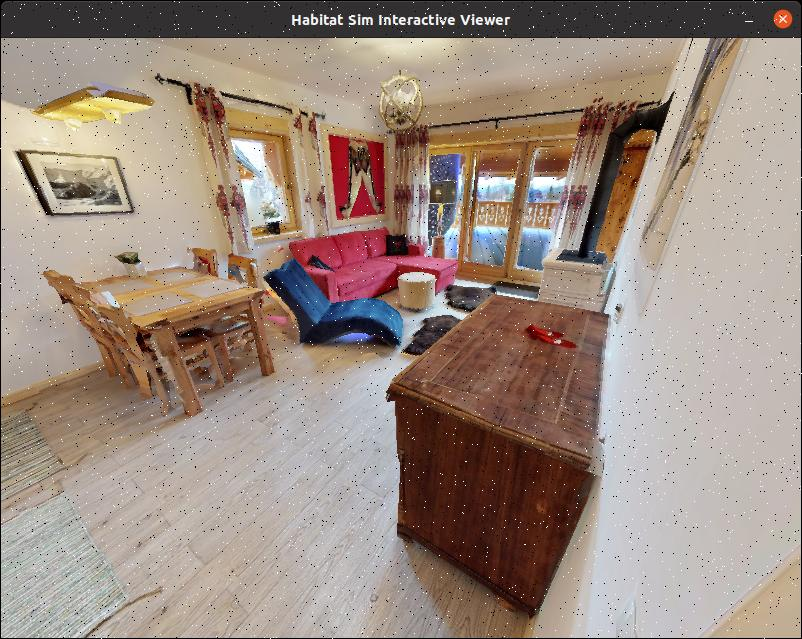chair: (99, 268, 210, 417)
sofa: (276, 225, 469, 310), (270, 263, 411, 357)
table: (47, 253, 308, 427)
